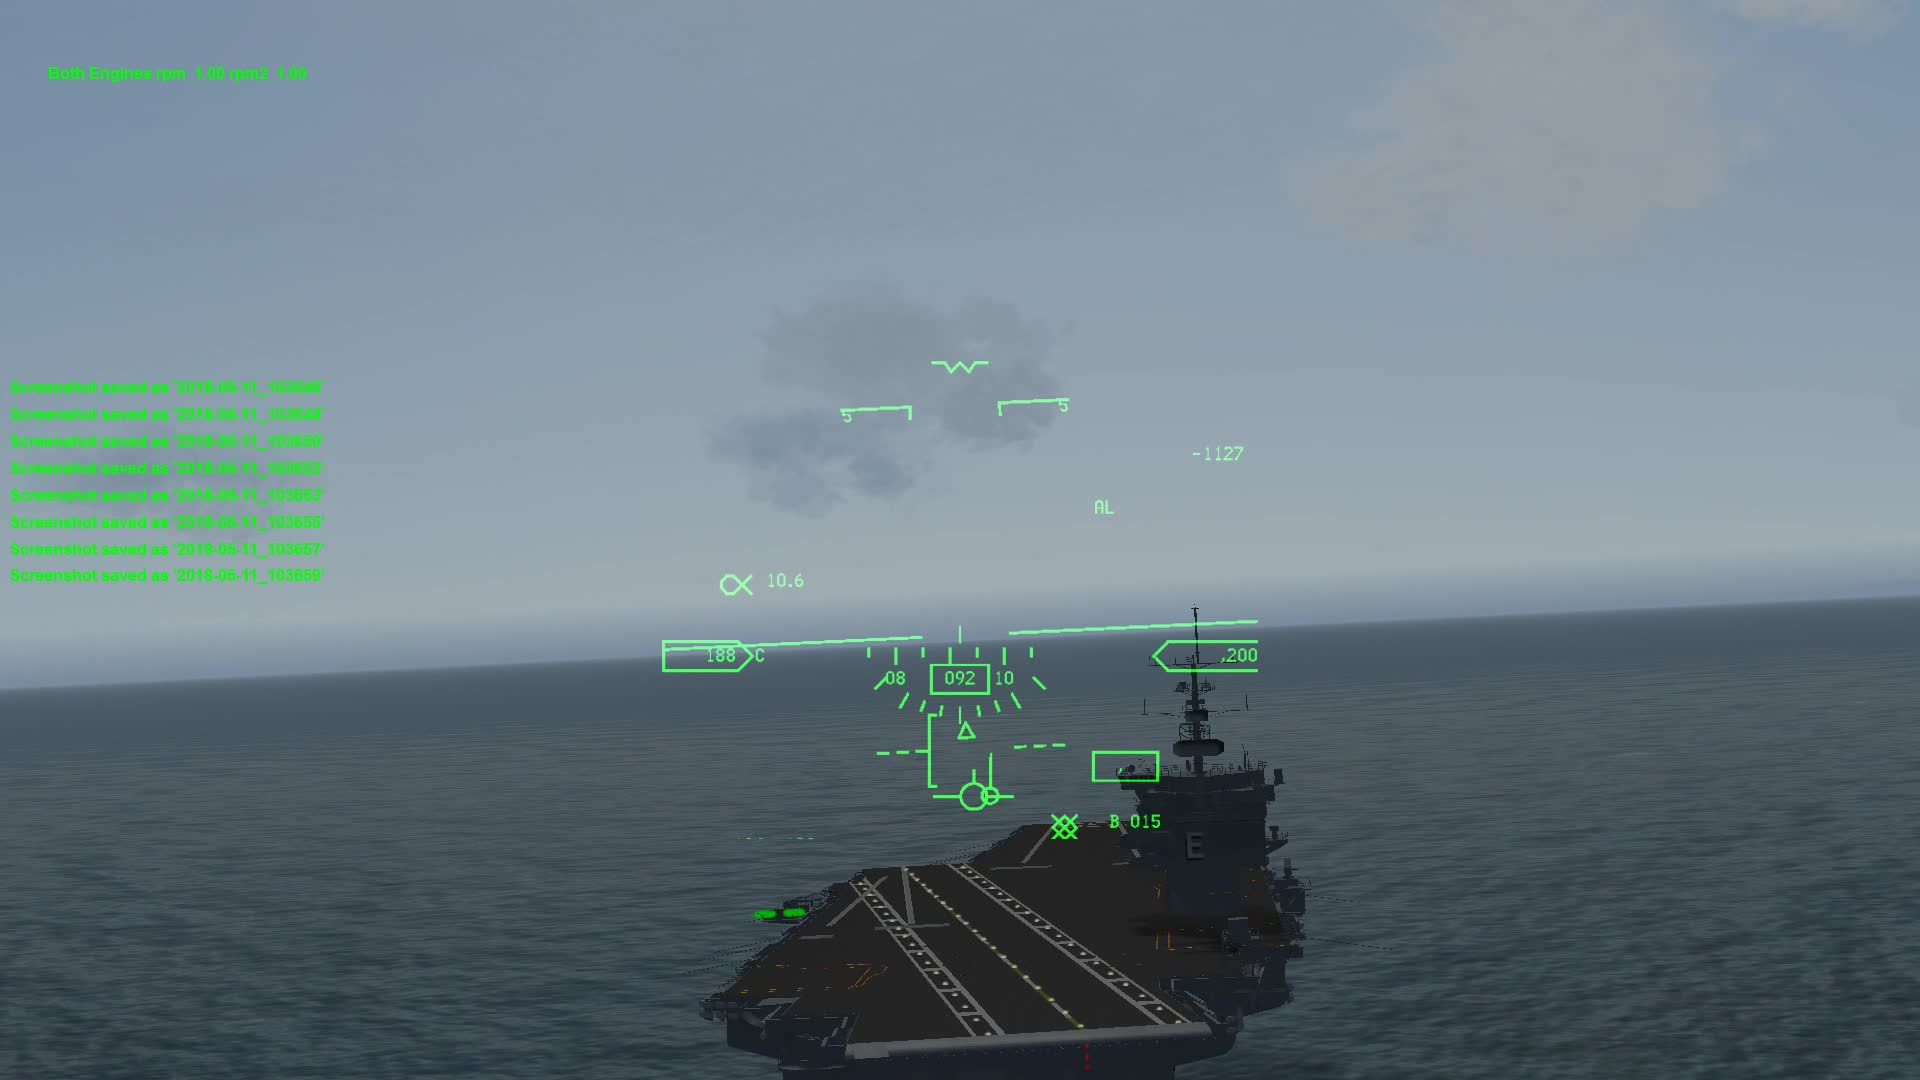speed vector: (940, 761, 1011, 822)
